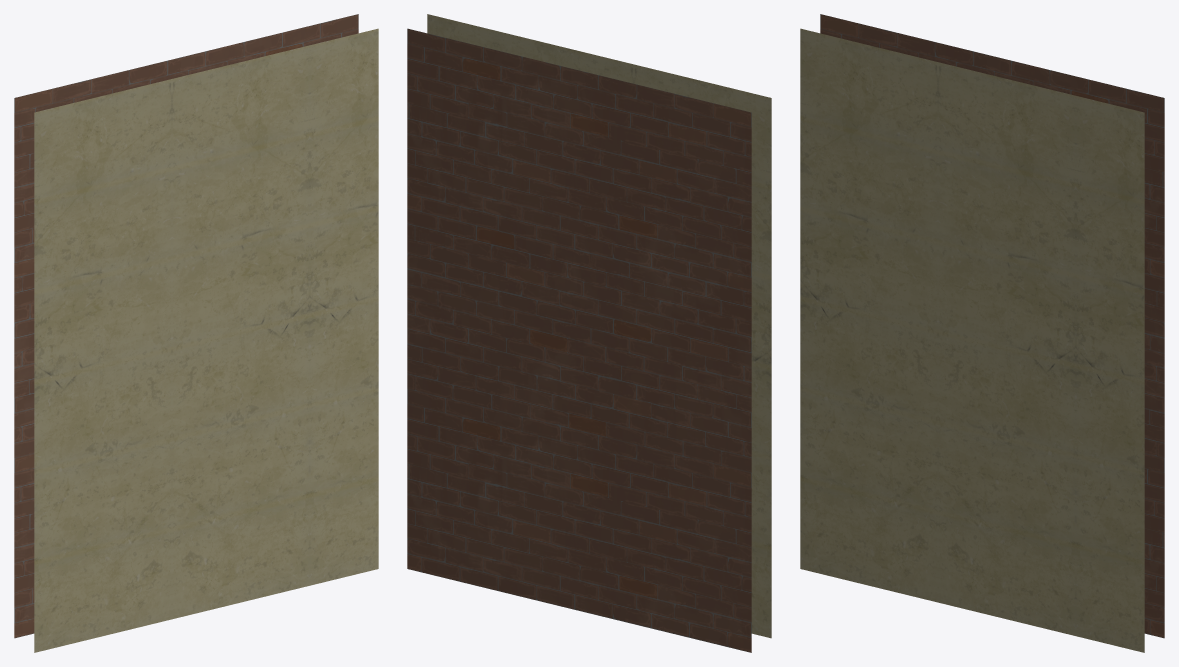
Rendered from Marble_Plain_3.gltf.
3 renders of one model, left to right at view 1: azimuth 30°, elevation 25°; view 2: azimuth 150°, elevation 25°; view 3: azimuth 330°, elevation 25°, orthographic.
Visible parts, largest first — view 1: Marble_Plain_3; view 2: Marble_Plain_3; view 3: Marble_Plain_3.
Boxes of the visible parts, x1,y1,x2,y2 form: Marble_Plain_3: (14, 14, 378, 652); Marble_Plain_3: (407, 14, 771, 652); Marble_Plain_3: (800, 14, 1164, 652).
Bounding box in the file's own units: 2 × 3 × 0.2.
2 materials, 2 textured.
